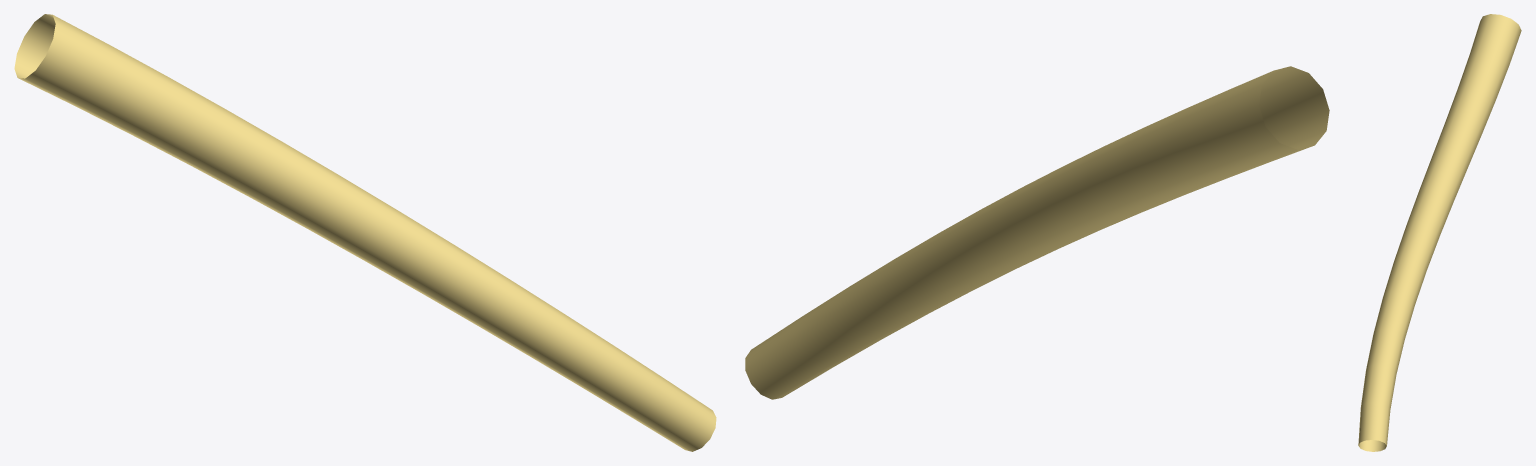
The picture shows the model from 3 angles, left to right: view 1: azimuth 30°, elevation 25°; view 2: azimuth 150°, elevation 25°; view 3: azimuth 270°, elevation 25°; orthographic projection. The views are drawn at different scales.
Parts seen in each view (by area): view 1: ZA_efa0dadb1d2a9246; view 2: ZA_efa0dadb1d2a9246; view 3: ZA_efa0dadb1d2a9246.
Boxes of the visible parts, left/top/right/bottom form: ZA_efa0dadb1d2a9246: left=14, top=14, right=716, bottom=451; ZA_efa0dadb1d2a9246: left=745, top=66, right=1329, bottom=399; ZA_efa0dadb1d2a9246: left=1358, top=14, right=1521, bottom=451.
Size of the model in its own units: 0.028 by 0.022 by 0.0114.
